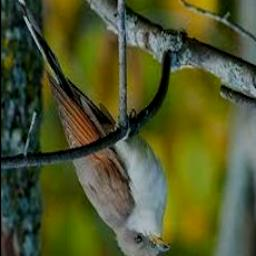Cuckoo: (11, 0, 169, 256)
